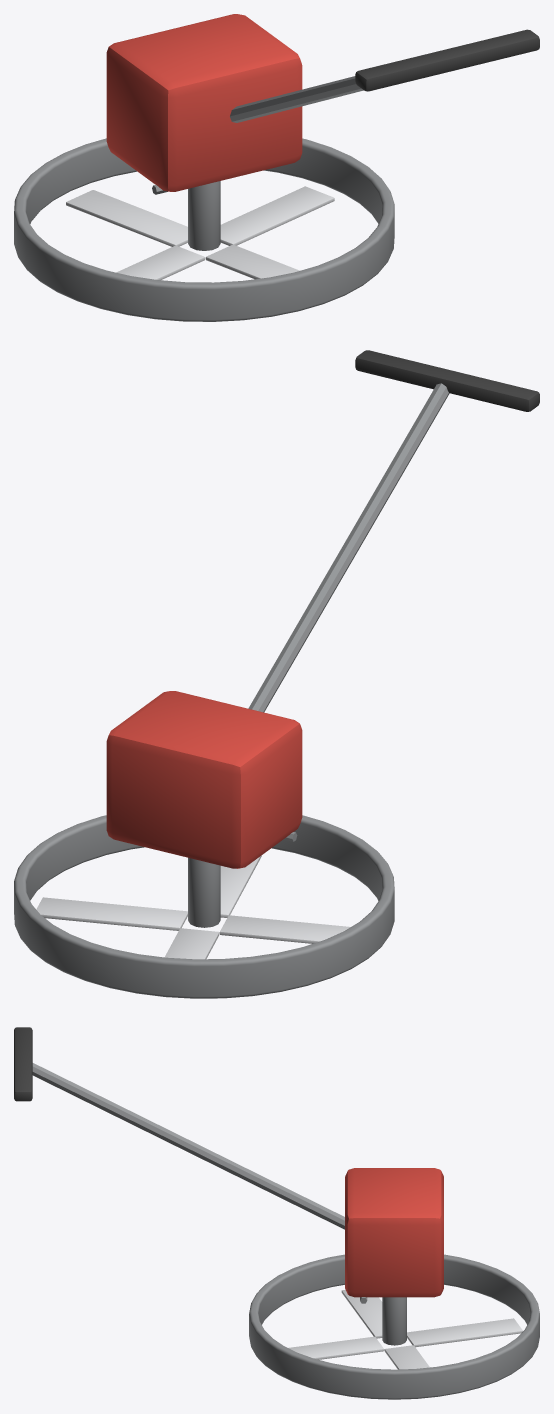
File: EQP-CON-004_anim.glb
The picture shows the model from 3 angles, top to bottom: view 1: azimuth 30°, elevation 25°; view 2: azimuth 150°, elevation 25°; view 3: azimuth 270°, elevation 25°; orthographic projection. The views are drawn at different scales.
Parts seen in each view (by area): view 1: EQP-CON-004_anim2, EQP-CON-004_anim1, EQP-CON-004_anim0; view 2: EQP-CON-004_anim2, EQP-CON-004_anim1, EQP-CON-004_anim0; view 3: EQP-CON-004_anim2, EQP-CON-004_anim1, EQP-CON-004_anim0.
Boxes of the visible parts, x1,y1,x2,y2 form: EQP-CON-004_anim2: (14, 29, 539, 321); EQP-CON-004_anim1: (106, 14, 302, 191); EQP-CON-004_anim0: (66, 186, 334, 280); EQP-CON-004_anim2: (14, 350, 539, 998); EQP-CON-004_anim1: (106, 691, 302, 868); EQP-CON-004_anim0: (36, 855, 350, 959); EQP-CON-004_anim2: (14, 1027, 539, 1399); EQP-CON-004_anim1: (345, 1168, 443, 1297); EQP-CON-004_anim0: (288, 1289, 522, 1369).
Bounding box in the file's own units: 0.94 × 1.02 × 1.7.
